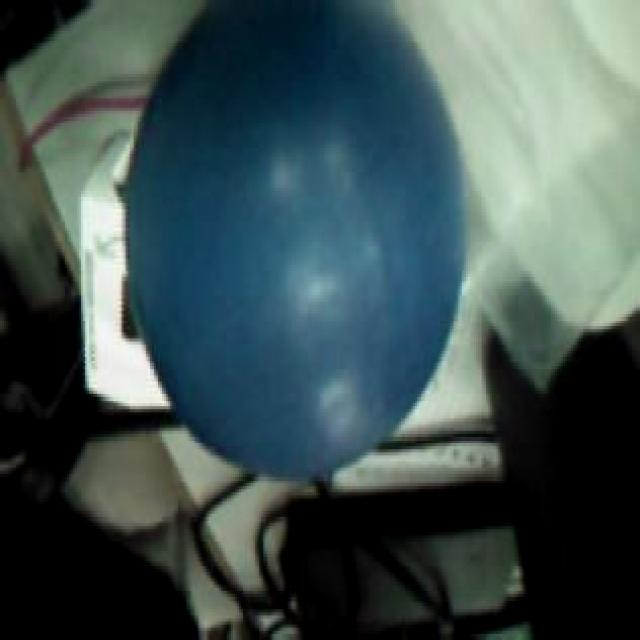BallPurple: (126, 0, 466, 478)
